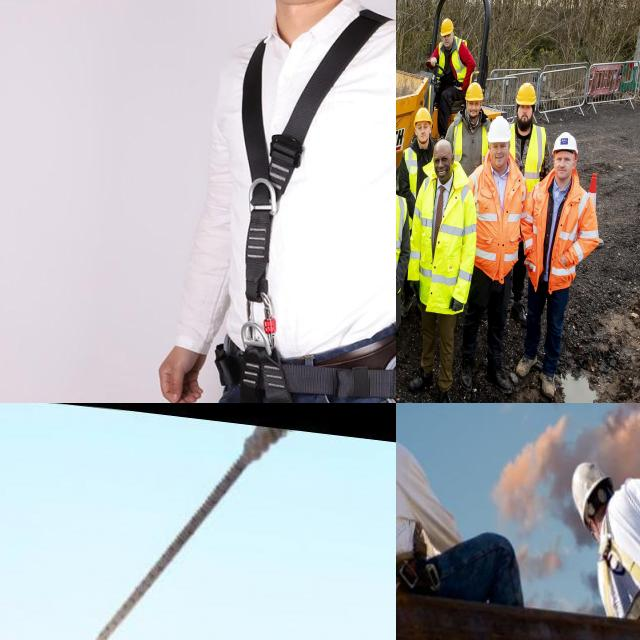Harness: (217, 12, 348, 403)
face_nomask: (485, 142, 508, 172), (552, 149, 572, 183), (465, 96, 485, 123), (515, 106, 538, 128), (434, 158, 452, 182), (441, 32, 455, 50)
head_helmet: (487, 115, 512, 145), (552, 131, 578, 156), (412, 106, 433, 128), (518, 84, 539, 104), (465, 82, 484, 102), (440, 18, 454, 36)
head_nohelmet: (432, 138, 454, 162)
person: (409, 141, 476, 403), (461, 117, 524, 394), (526, 134, 590, 396), (431, 17, 468, 140), (511, 82, 551, 186), (399, 106, 434, 212), (448, 81, 491, 166), (396, 144, 408, 403)
shoes: (484, 362, 514, 398), (407, 364, 436, 394), (516, 348, 539, 381), (538, 368, 558, 401), (461, 349, 476, 391), (435, 381, 454, 403)
vest: (531, 170, 600, 289), (412, 176, 476, 298), (473, 164, 524, 276), (510, 124, 544, 188), (452, 120, 493, 165), (437, 41, 469, 85), (404, 148, 430, 194)
